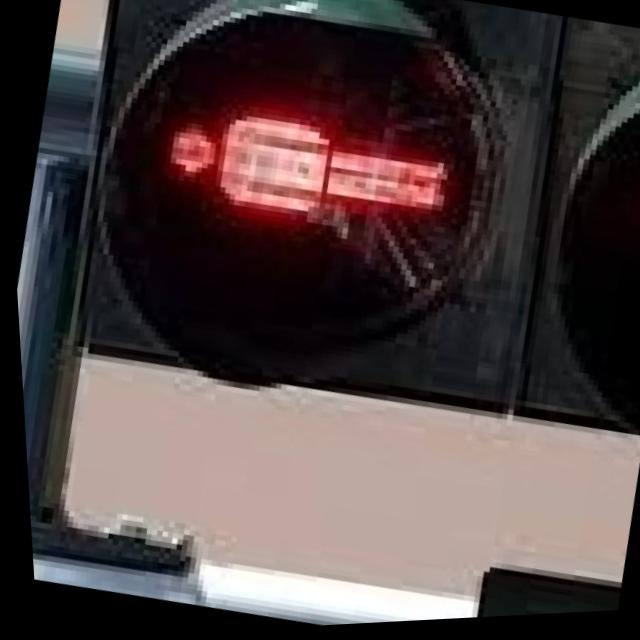red_light: (103, 39, 481, 314)
